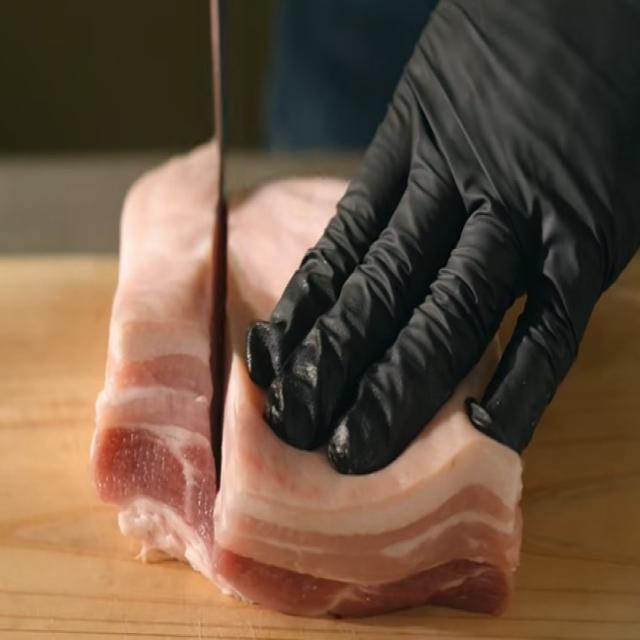pork: (226, 403, 537, 640), (90, 95, 218, 570)
